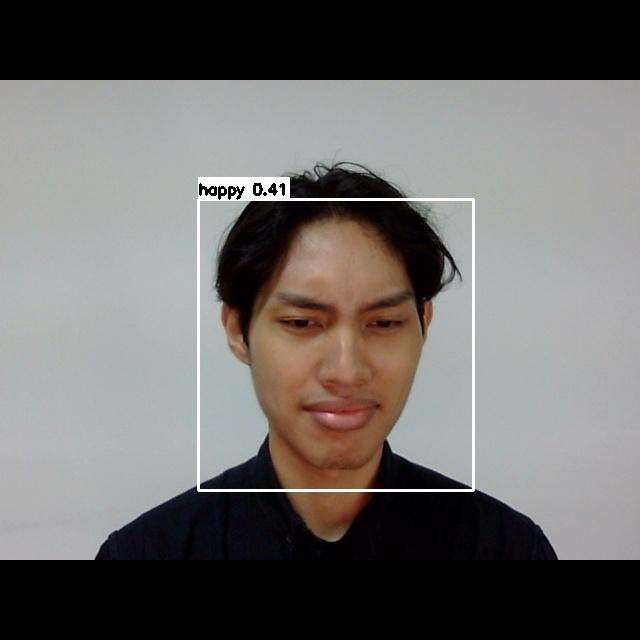Disgust: (251, 273, 435, 444)
